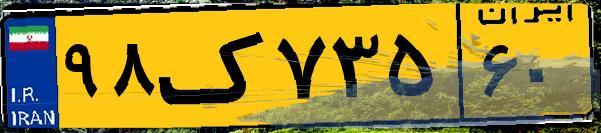0: (525, 38, 570, 115)
3: (330, 28, 385, 110)
5: (385, 28, 445, 110)
6: (475, 38, 525, 113)
7: (270, 28, 330, 110)
8: (110, 28, 158, 98)
9: (57, 26, 110, 100)
ک: (158, 12, 270, 120)
